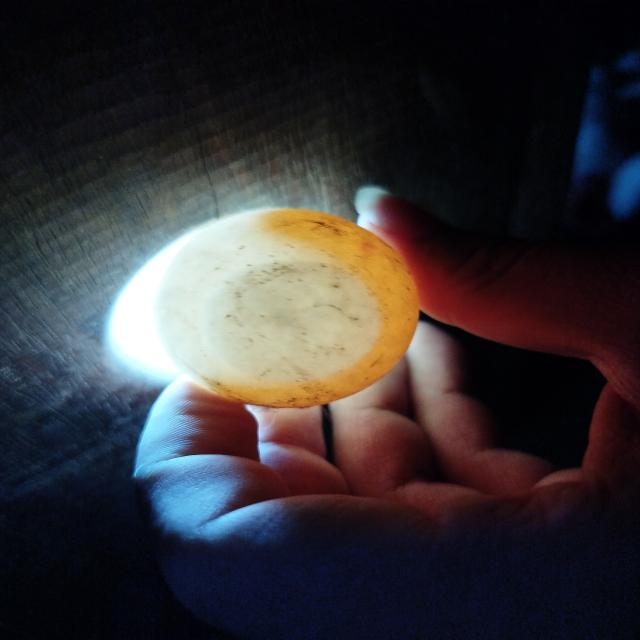Camara de Ar: (205, 262, 382, 382)
Gema Quebrada: (204, 207, 421, 407)
